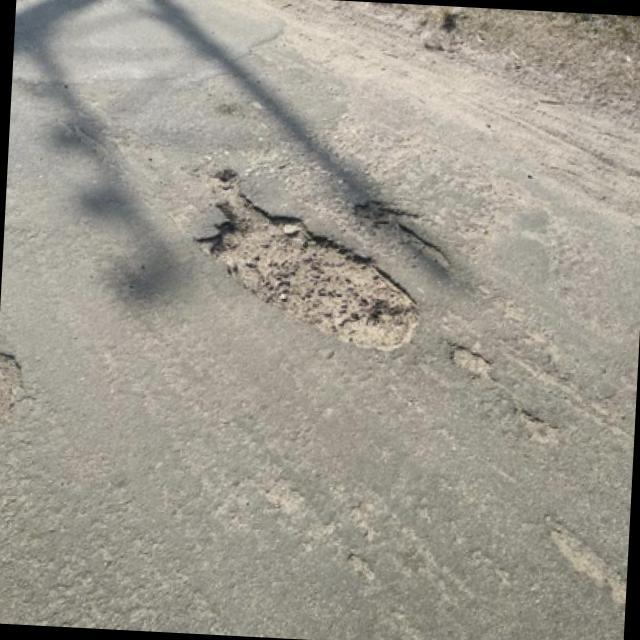Pothole: (215, 181, 418, 349)
